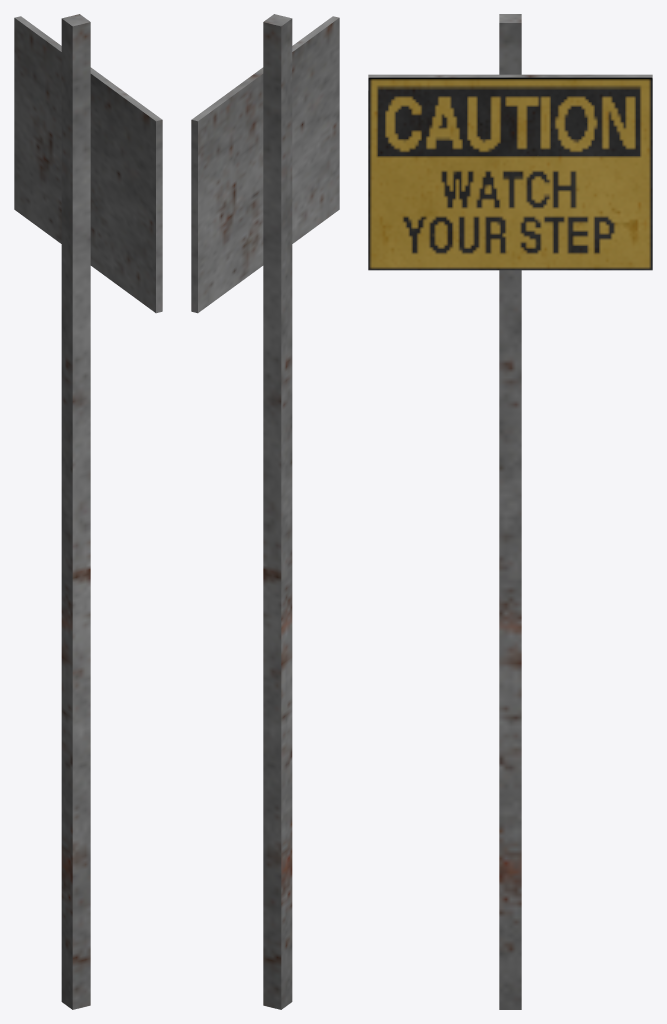
File: Sign_11.fbx
The picture shows the model from 3 angles, left to right: view 1: azimuth 30°, elevation 25°; view 2: azimuth 150°, elevation 25°; view 3: azimuth 270°, elevation 25°; orthographic projection.
Parts seen in each view (by area): view 1: Sign_11; view 2: Sign_11; view 3: Sign_11.
Boxes of the visible parts, x1,y1,x2,y2 form: Sign_11: (14,14,162,1009); Sign_11: (191,14,339,1009); Sign_11: (368,14,652,1009).
Size of the model in its own units: 5.76 by 221 by 57.52.
